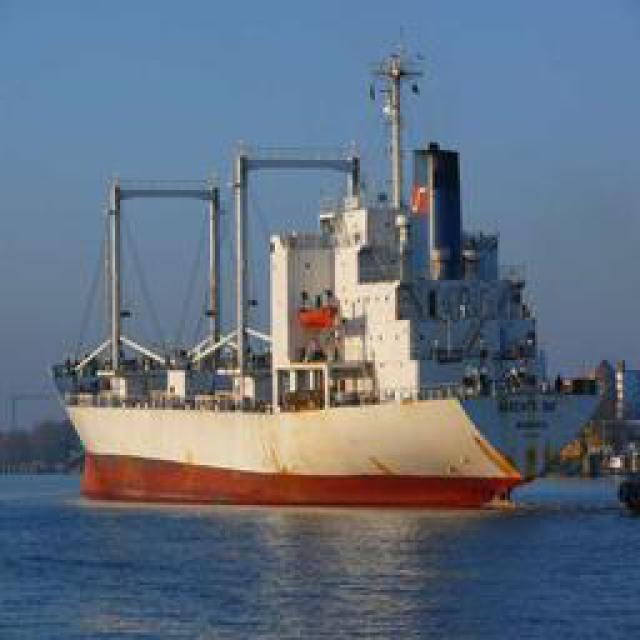Ship: (52, 51, 595, 514)
